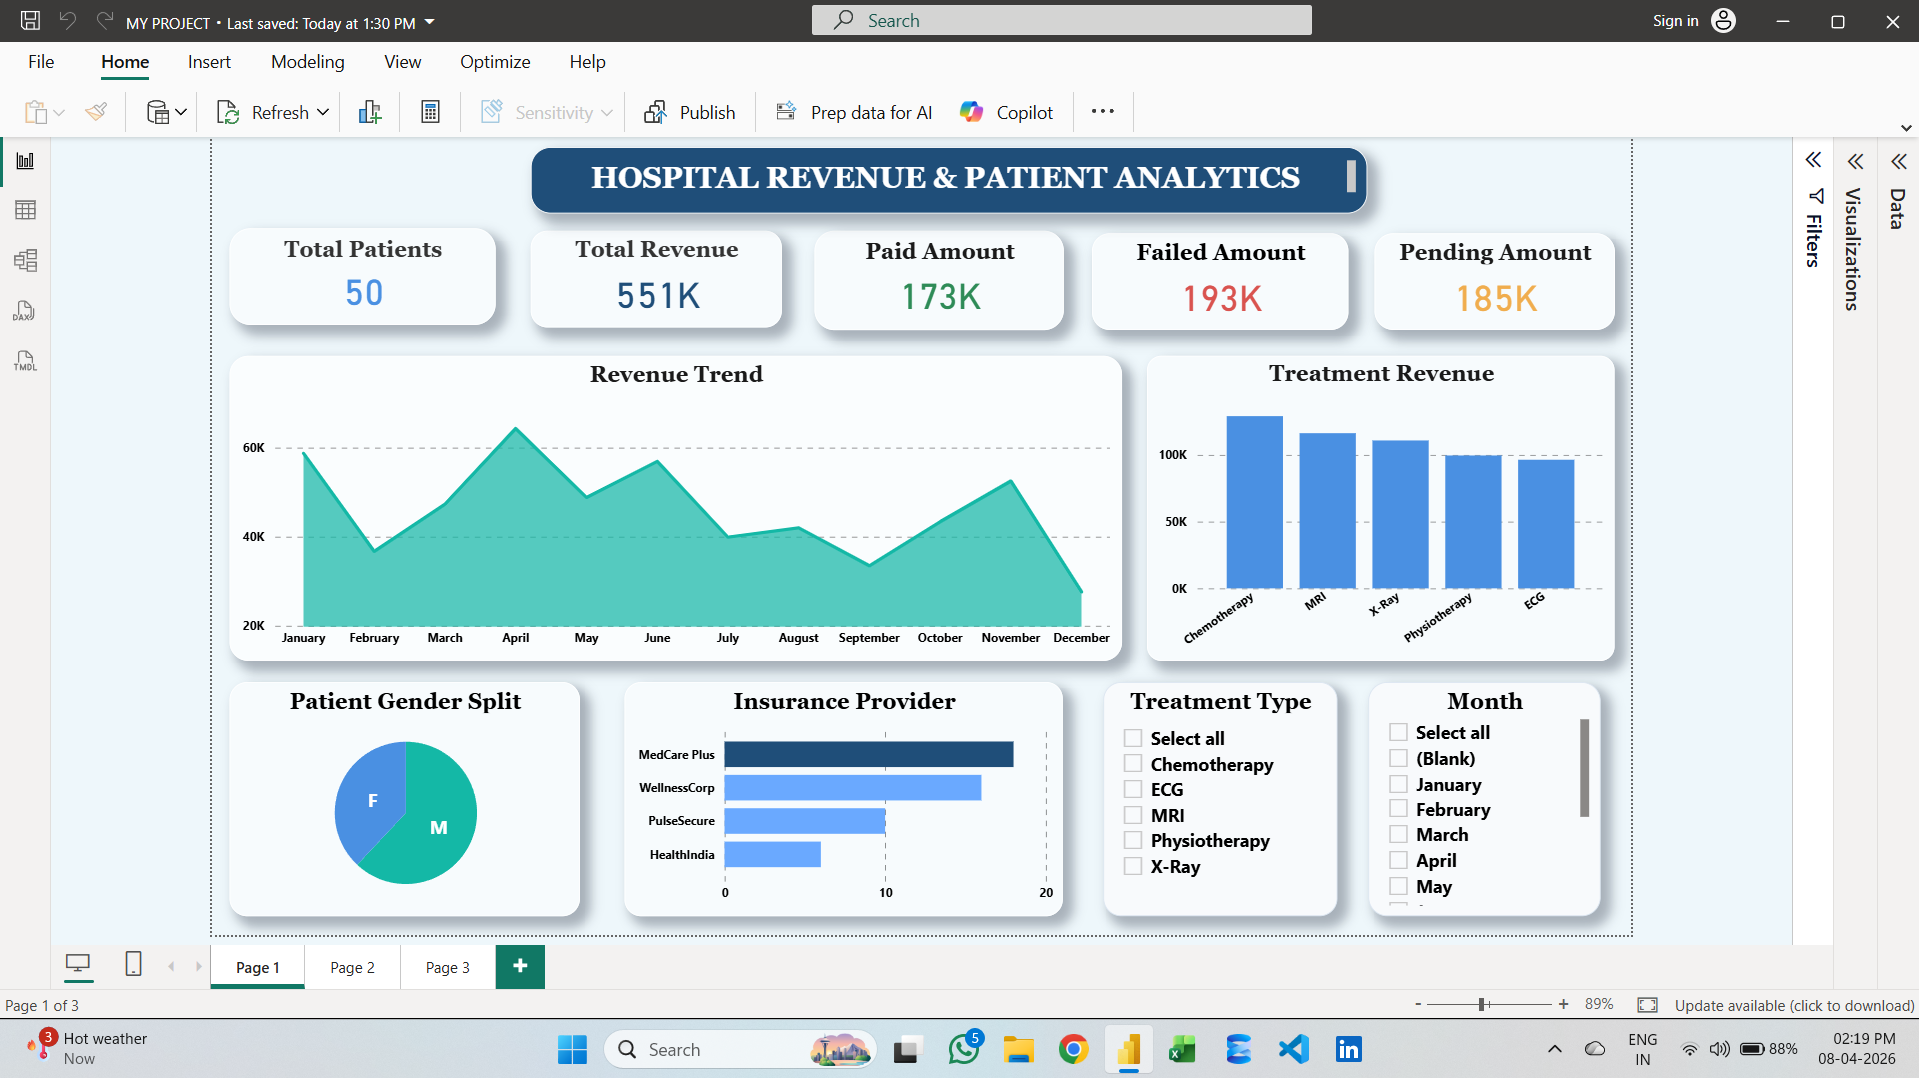

This screenshot's page, from the dashboard's own definition file:
{"tool":"powerbi","page":{"name":"Page 1","canvas":[1280,720],"ordinal":0},"visuals":[{"type":"card","title":"Total Revenue","fields":{"Values":["Table.Total Revenue"]},"box":[287.4,84.4,226.2,86.8],"z":0},{"type":"card","title":"Paid Amount","fields":{"Values":["Table.Paid Amount"]},"box":[542.9,84.4,225,89.3],"z":1000},{"type":"card","title":"Total Patients","fields":{"Values":["Table.Total Appointments"]},"box":[15.9,81.9,239.7,86.8],"z":2000},{"type":"card","title":"Pending Amount","fields":{"Values":["Table.Pending Amount"]},"box":[1048,86.8,216.4,86.8],"z":3000},{"type":"card","title":"Failed Amount","fields":{"Values":["Table.Failed Amount"]},"box":[793.6,86.8,231.1,86.8],"z":4000},{"type":"stackedAreaChart","title":"Revenue Trend","fields":{"Category":["Billing.bill_date.Variation.Date Hierarchy.Month"],"Y":["Sum(Billing.amount)"]},"box":[15.9,196.9,804.6,275.1],"z":5000},{"type":"columnChart","title":"Treatment Revenue","fields":{"Category":["Treatment.Treatment_type"],"Y":["Sum(Treatment.Cost)"]},"box":[842.5,196.9,421.9,275.1],"z":6000},{"type":"pieChart","title":"Patient Gender Split","fields":{"Category":["Patients.Gender"],"Y":["Count(Patients.Patient_id)"]},"box":[15.7,491,315.7,211.2],"z":7000},{"type":"barChart","title":"Insurance Provider","fields":{"Category":["Appointments.insurance_provider"],"Y":["Count(Appointments.Patient_id)"]},"box":[371.9,491.5,395.6,210.8],"z":8000},{"type":"slicer","title":"Month","fields":{"Values":["Appointments.registration_date.Variation.Date Hierarchy.Month"]},"box":[1042.2,491.5,209.6,210.8],"z":9000},{"type":"slicer","title":"Payment Method","fields":{"Values":["Billing.payment_method"]},"box":[803.5,490.7,210.5,210.5],"z":10000},{"type":"textbox","box":[287.4,8.6,754.5,59.9],"z":11001}]}

Visuals, with their boxes on the page's 1280x720 design canvas (x1, y1, x2, y2). These are canvas units, not pixel positions in the 1919x1078 screenshot, which may show the page scaled, cropped or inside an application window:
"Total Revenue" card: left=287, top=84, right=514, bottom=171
"Paid Amount" card: left=543, top=84, right=768, bottom=174
"Total Patients" card: left=16, top=82, right=256, bottom=169
"Pending Amount" card: left=1048, top=87, right=1264, bottom=174
"Failed Amount" card: left=794, top=87, right=1025, bottom=174
"Revenue Trend" stackedAreaChart: left=16, top=197, right=820, bottom=472
"Treatment Revenue" columnChart: left=842, top=197, right=1264, bottom=472
"Patient Gender Split" pieChart: left=16, top=491, right=331, bottom=702
"Insurance Provider" barChart: left=372, top=492, right=768, bottom=702
"Month" slicer: left=1042, top=492, right=1252, bottom=702
"Payment Method" slicer: left=804, top=491, right=1014, bottom=701
textbox: left=287, top=9, right=1042, bottom=68
